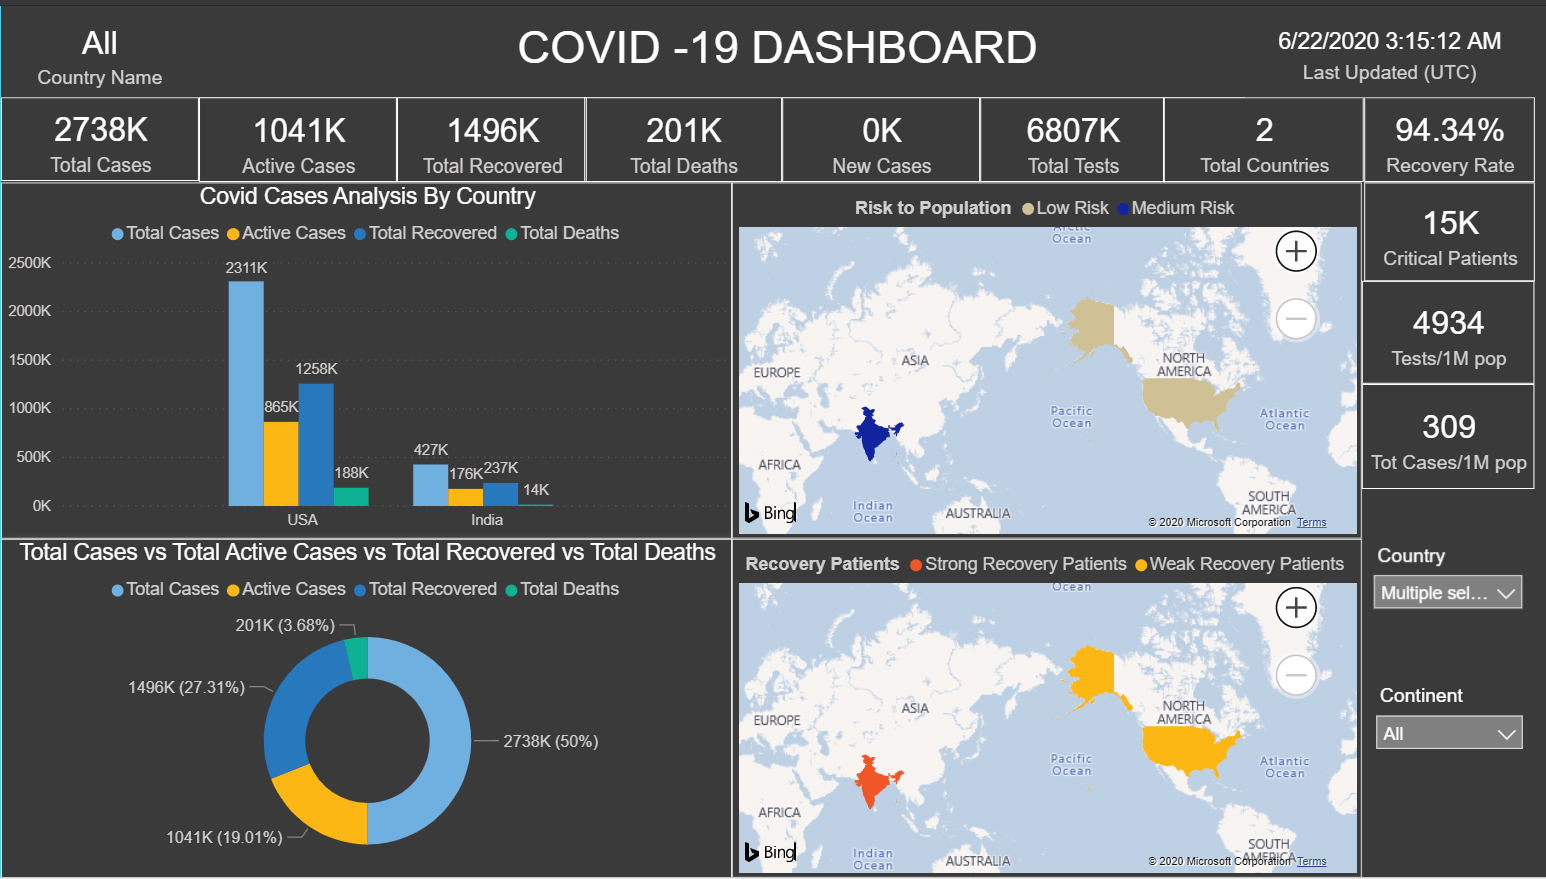

This screenshot's page, from the dashboard's own definition file:
{"tool":"powerbi","page":{"name":"Dashboard","canvas":[1280,720],"ordinal":0},"visuals":[{"type":"textbox","title":"COVID -19 DASHBOARD","box":[404.8,12.8,472,51.2],"z":0},{"type":"card","fields":{"Values":["Sum(Covid_data.TotalCases)"]},"box":[0,75.2,163.2,68.8],"z":1000},{"type":"card","fields":{"Values":["Sum(Covid_data.TotalRecovered)"]},"box":[326.4,75.2,156.8,70.4],"z":2000},{"type":"card","fields":{"Values":["Sum(Covid_data.Total Deaths)"]},"box":[481.6,75.2,163.2,70.4],"z":3000},{"type":"card","fields":{"Values":["Sum(Covid_data.ActiveCases)"]},"box":[163.2,75.2,163.2,70.4],"z":4000},{"type":"card","fields":{"Values":["Sum(Covid_data.New Cases)"]},"box":[644.8,75.2,163.2,70.4],"z":5000},{"type":"card","fields":{"Values":["Sum(Covid_data.Total Tests)"]},"box":[808,75.2,152,70.4],"z":6000},{"type":"card","fields":{"Values":["Count(Covid_data.Country)"]},"box":[960,75.2,156.8,70.4],"z":7000},{"type":"card","fields":{"Values":["Avg(Covid_data.PopulationImmunity)"]},"box":[1116.8,75.2,148.8,70.4],"z":8000},{"type":"clusteredColumnChart","title":"Covid Cases Analysis By Country","fields":{"Category":["Covid_data.Country"],"Y":["Sum(Covid_data.Total Cases)","Sum(Covid_data.Active Cases)","Sum(Covid_data.Total Recovered)","Sum(Covid_data.Total Deaths)"]},"box":[0,145.6,603.2,294.4],"z":9000},{"type":"card","fields":{"Values":["Min(Last_Refreshed.Last_Refreshed)"]},"box":[1027.2,1.6,238.4,73.6],"z":10000},{"type":"donutChart","title":"Total Cases vs Total Active Cases vs Total Recovered vs Total Deaths","fields":{"Y":["Sum(Covid_data.Total Cases)","Sum(Covid_data.Active Cases)","Sum(Covid_data.Total Recovered)","Sum(Covid_data.Total Deaths)"]},"box":[0,440,603.2,280],"z":11000},{"type":"filledMap","fields":{"Category":["Covid_data.Country"],"Series":["Covid_data.RisktoPopulation"]},"box":[603.2,145.6,520,294.4],"z":12000},{"type":"filledMap","fields":{"Category":["Covid_data.Country"],"Series":["Covid_data.RecoveryPatients"]},"box":[603.2,440,520,280],"z":13000},{"type":"slicer","fields":{"Values":["Covid_data.Country"]},"box":[1123.2,440,142.4,100.8],"z":14000},{"type":"card","fields":{"Values":["Sum(Covid_data.Critical Patients)"]},"box":[1124.8,145.6,140.8,81.6],"z":15000},{"type":"card","fields":{"Values":["Sum(Covid_data.Tests/1M pop)"]},"box":[1123.2,227.2,142.4,84.8],"z":16000},{"type":"card","fields":{"Values":["Sum(Covid_data.Tot Cases/1M pop)"]},"box":[1123.2,312,142.4,86.4],"z":17000},{"type":"slicer","fields":{"Values":["Covid_data.Continent"]},"box":[1124.8,555.2,140.8,91.2],"z":18000},{"type":"card","fields":{"Values":["Covid_data.Country Card"]},"box":[0,1.6,163.2,73.6],"z":19000}]}

Visuals, with their boxes in screenshot pixels (x1, y1, x2, y2), scaled from the page's 1280x720 canvas onto the 1546x879 screenshot:
"COVID -19 DASHBOARD" textbox: crop(489, 16, 1059, 78)
card - Sum(Covid_data.TotalCases): crop(0, 92, 197, 176)
card - Sum(Covid_data.TotalRecovered): crop(394, 92, 584, 178)
card - Sum(Covid_data.Total Deaths): crop(582, 92, 779, 178)
card - Sum(Covid_data.ActiveCases): crop(197, 92, 394, 178)
card - Sum(Covid_data.New Cases): crop(779, 92, 976, 178)
card - Sum(Covid_data.Total Tests): crop(976, 92, 1160, 178)
card - Count(Covid_data.Country): crop(1160, 92, 1349, 178)
card - Avg(Covid_data.PopulationImmunity): crop(1349, 92, 1529, 178)
"Covid Cases Analysis By Country" clusteredColumnChart: crop(0, 178, 729, 537)
card - Min(Last_Refreshed.Last_Refreshed): crop(1241, 2, 1529, 92)
"Total Cases vs Total Active Cases vs Total Recovered vs Total Deaths" donutChart: crop(0, 537, 729, 878)
filledMap - Covid_data.Country x Covid_data.RisktoPopulation: crop(729, 178, 1357, 537)
filledMap - Covid_data.Country x Covid_data.RecoveryPatients: crop(729, 537, 1357, 878)
slicer - Covid_data.Country: crop(1357, 537, 1529, 660)
card - Sum(Covid_data.Critical Patients): crop(1359, 178, 1529, 277)
card - Sum(Covid_data.Tests/1M pop): crop(1357, 277, 1529, 381)
card - Sum(Covid_data.Tot Cases/1M pop): crop(1357, 381, 1529, 486)
slicer - Covid_data.Continent: crop(1359, 678, 1529, 789)
card - Covid_data.Country Card: crop(0, 2, 197, 92)
